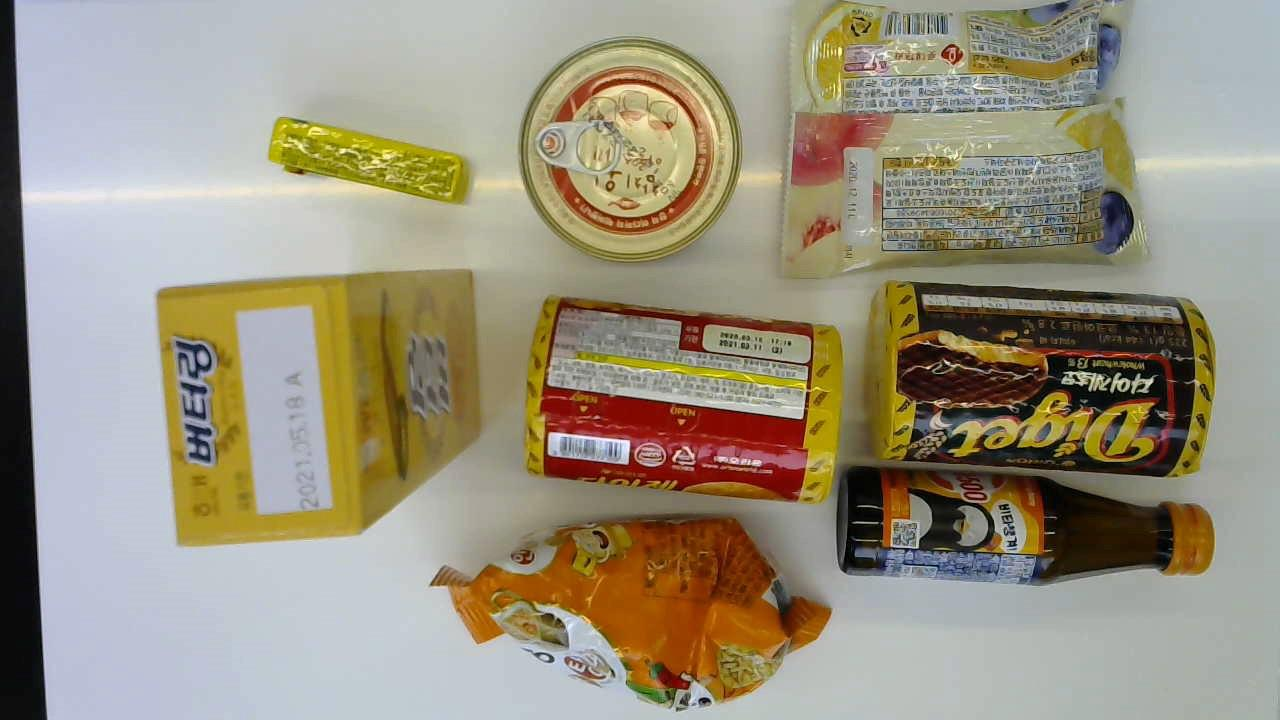buttering: (155, 266, 481, 549)
diget_choco: (865, 279, 1209, 479)
diget_ori: (520, 295, 843, 504)
gumi_gumi: (775, 1, 1151, 279)
jjolbyung_noodle: (433, 515, 834, 708)
juicyfresh: (264, 114, 470, 202)
tuna: (516, 35, 741, 259)
vita500: (833, 467, 1212, 587)
